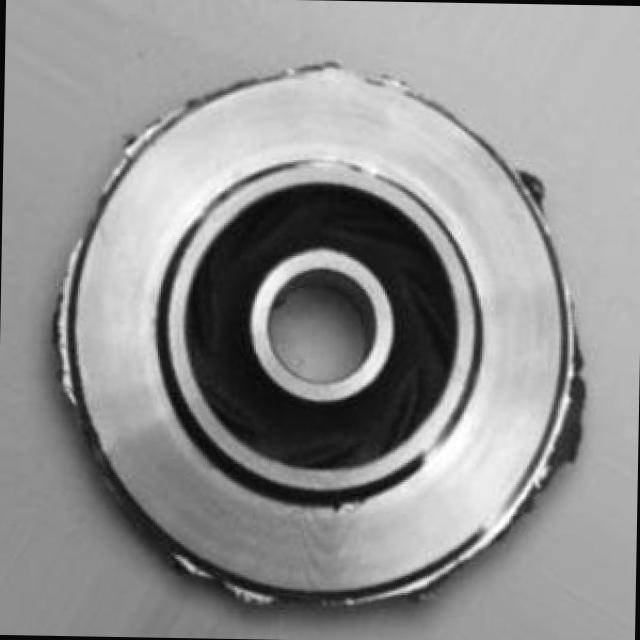Defect: (544, 386, 590, 472)
